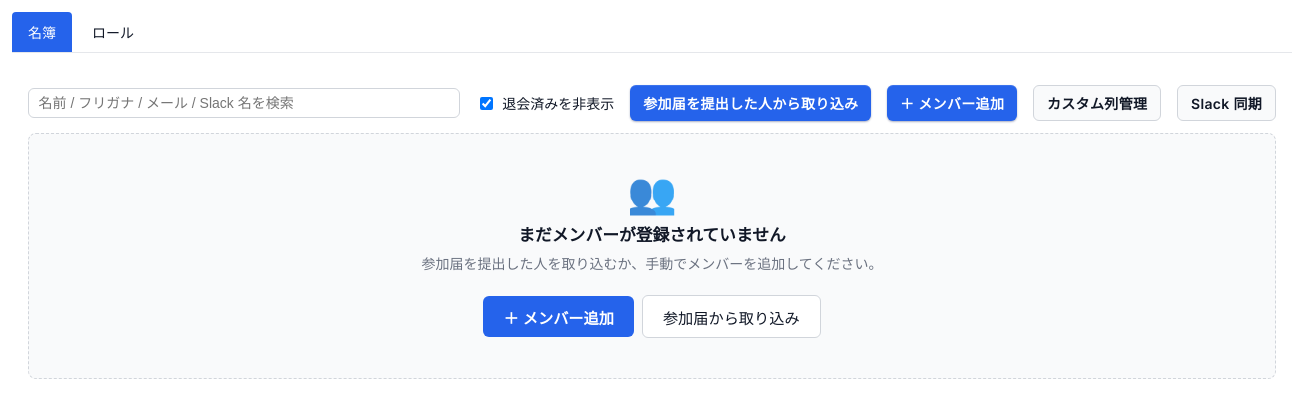
it: MembersTabContent smoke (members-tab-integration) › 両方揃っているとき、POST は発火せず サブタブの切替が動く
This screenshot has width=1292, height=396.
Check: the button "名簿" is shown, box [12,12,72,52]
// ロールタブをクリック → 「ロール一覧サマリ」(RoleMainTab) が出る
Step 1. Click the button "ロール" → (113, 32), box [76,12,150,52]
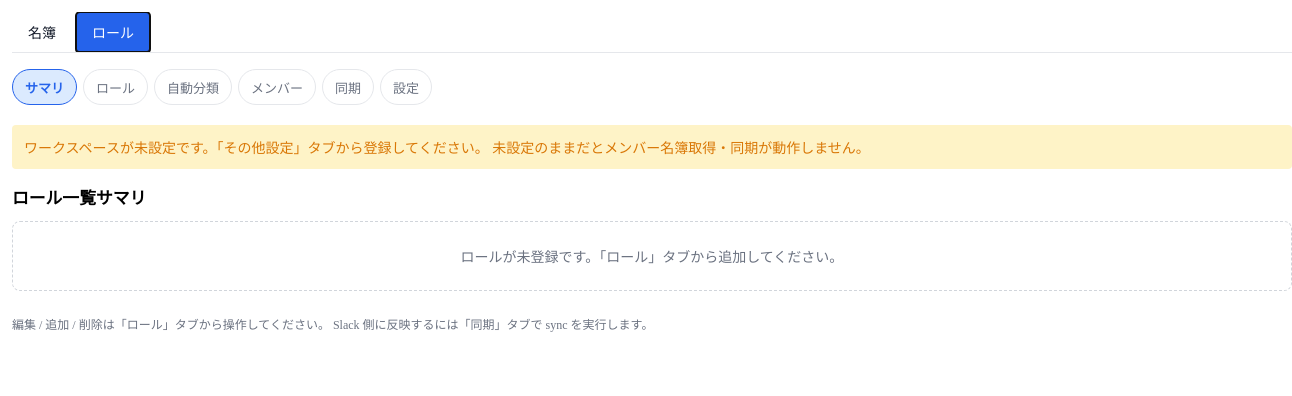
Check: the heading "ロール一覧サマリ" is shown, box [12,185,146,209]
